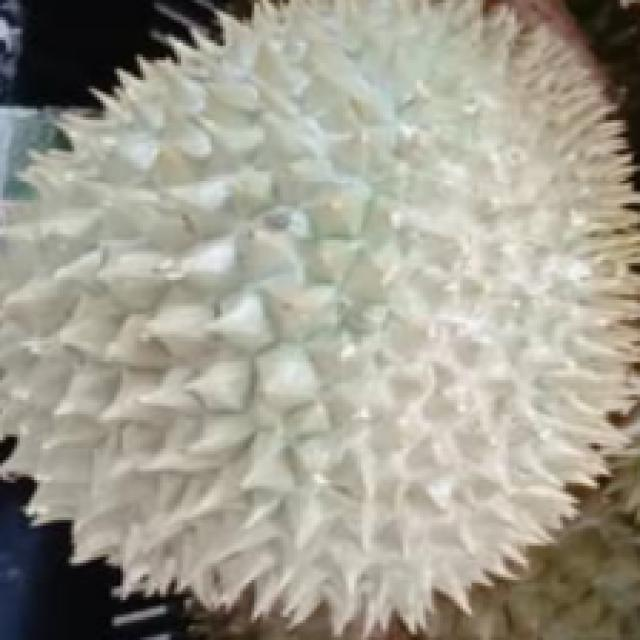d24: (34, 50, 640, 566)
